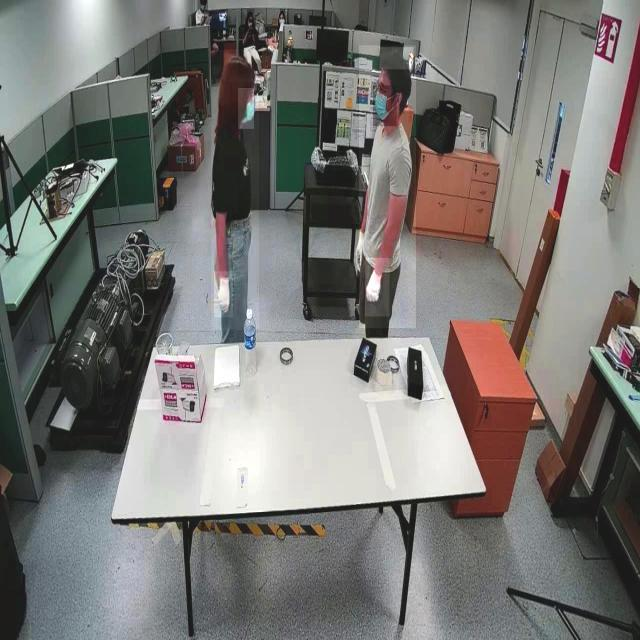face_mask: (373, 86, 397, 126), (238, 88, 254, 129), (197, 0, 208, 15), (246, 18, 256, 34)
hand_glove: (364, 258, 390, 317), (349, 231, 369, 278), (213, 271, 233, 318)
head_nohelmet: (223, 53, 255, 83), (379, 47, 413, 70), (247, 9, 254, 15), (280, 9, 286, 14)
person: (358, 45, 416, 329), (211, 49, 259, 330), (239, 14, 263, 79)
